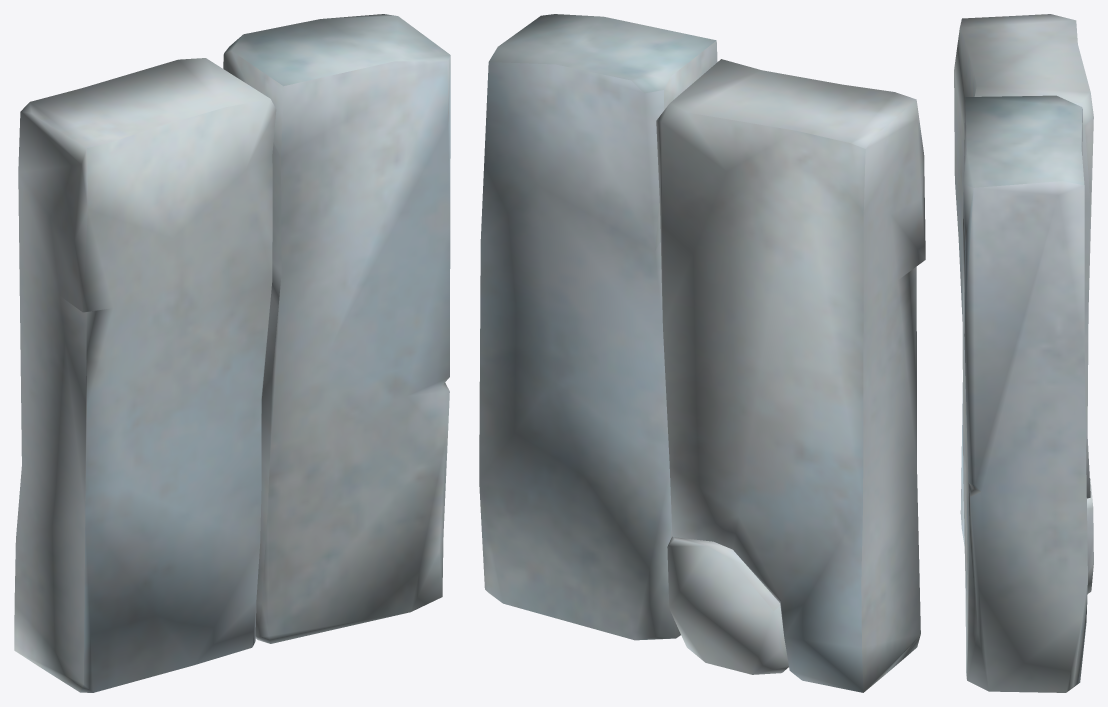
File: P_CubicCliffPiece16.obj
The picture shows the model from 3 angles, left to right: view 1: azimuth 30°, elevation 25°; view 2: azimuth 150°, elevation 25°; view 3: azimuth 270°, elevation 25°; orthographic projection. The views are drawn at different scales.
Size of the model in its own units: 32.42 by 45.68 by 11.07.
